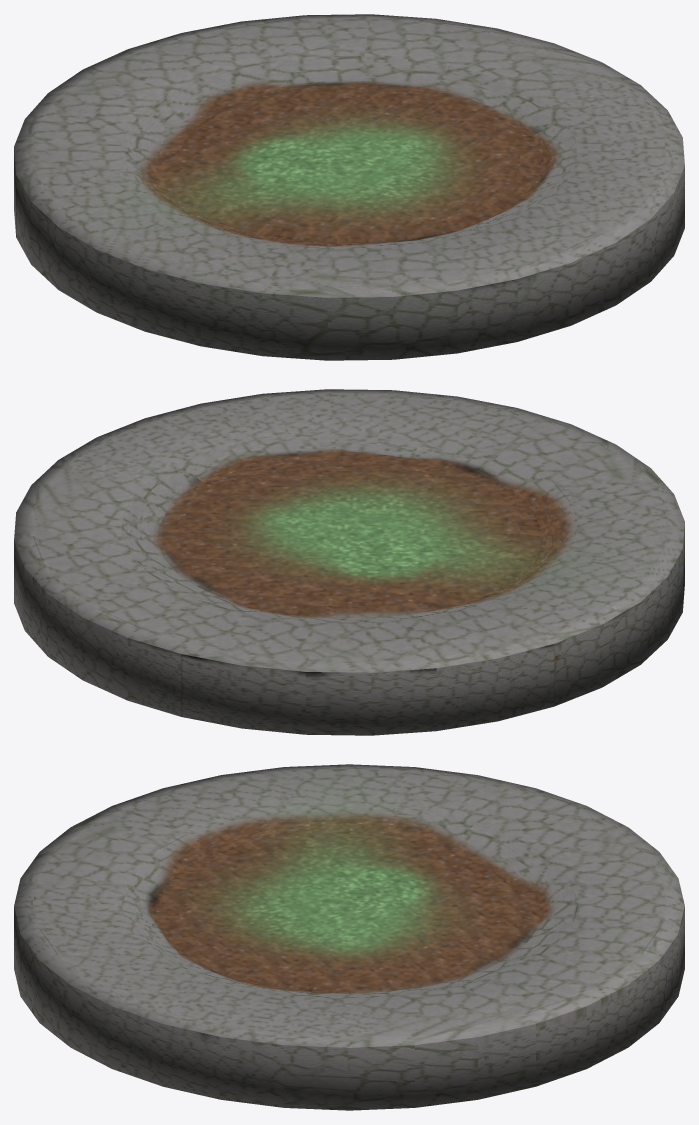
The model's file is thing.glb.
The picture shows the model from 3 angles, top to bottom: view 1: azimuth 30°, elevation 25°; view 2: azimuth 150°, elevation 25°; view 3: azimuth 270°, elevation 25°; orthographic projection.
Visible parts, largest first — view 1: Cylinder; view 2: Cylinder; view 3: Cylinder.
Boxes of the visible parts, x1,y1,x2,y2 form: Cylinder: (14,14,684,360); Cylinder: (14,389,684,735); Cylinder: (14,764,684,1110).
Size of the model in its own units: 2.68 by 0.2924 by 2.68.
1 material, 1 textured.
